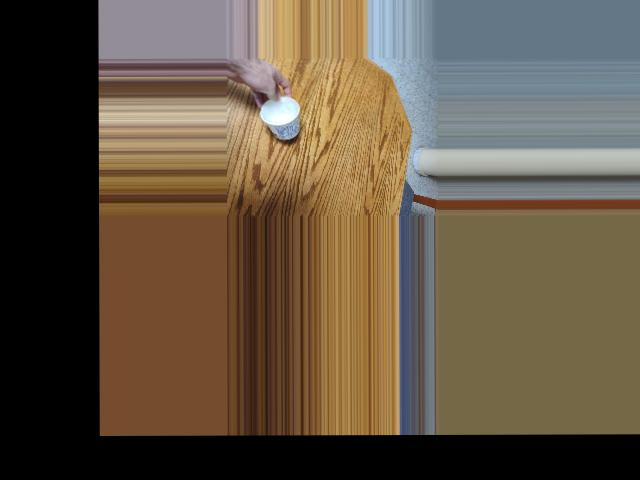cotage: (268, 95, 299, 137)
